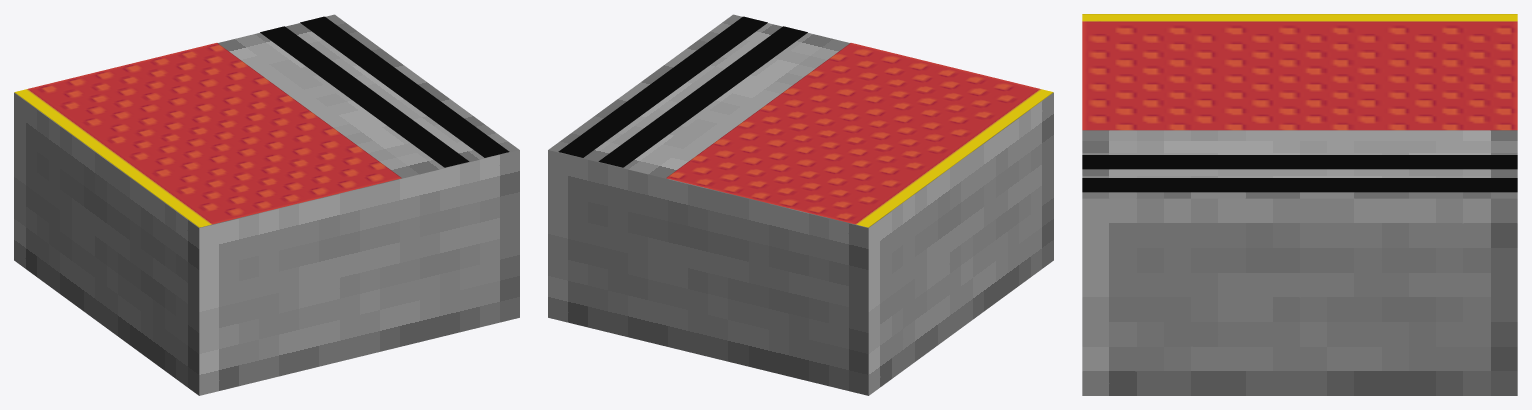
The model's file is es_1_slab_bottom_flipped.obj.
3 views of the same model, side by side, from view 1: azimuth 30°, elevation 25°; view 2: azimuth 150°, elevation 25°; view 3: azimuth 270°, elevation 25° (orthographic). The views are drawn at different scales.
Visible parts, largest first — view 1: cube; view 2: cube; view 3: cube.
Part boxes in pixels (left/top/right/bottom): cube: left=14, top=14, right=519, bottom=395; cube: left=548, top=14, right=1053, bottom=395; cube: left=1082, top=14, right=1517, bottom=395.
Size of the model in its own units: 1 by 0.5016 by 1.
Materials: 3 (3 with a texture image).
